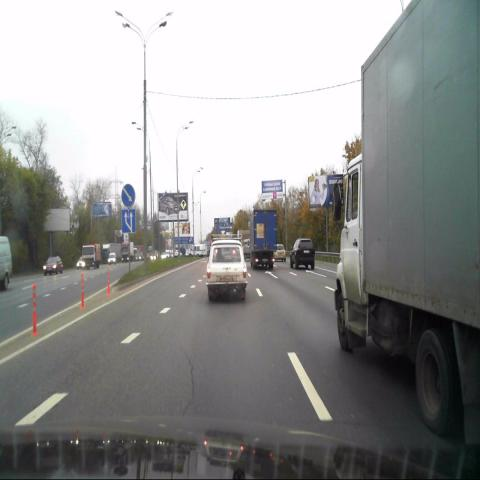4_2_1: (121, 184, 135, 208)
5_15_3: (122, 208, 136, 232)
